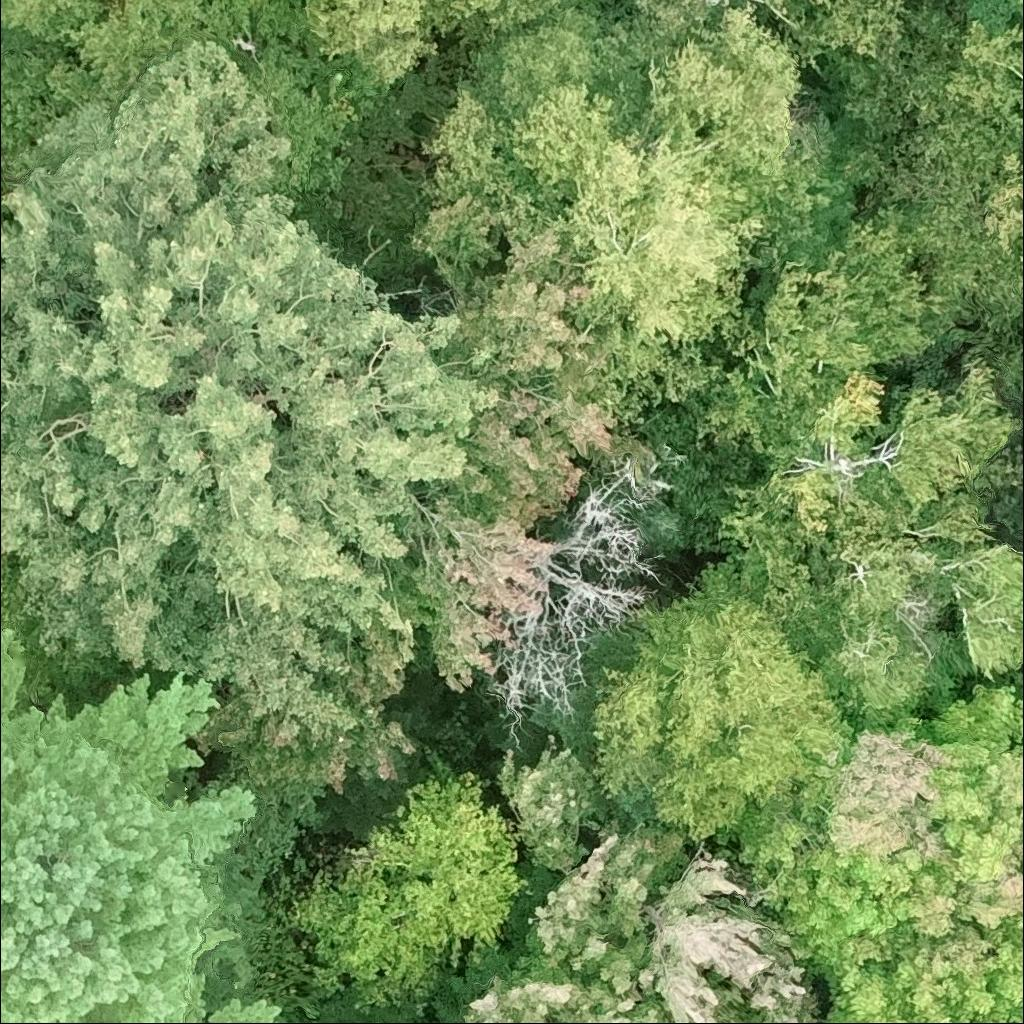crown: (0, 36, 496, 735), (393, 188, 625, 692), (715, 354, 1023, 724), (0, 620, 281, 1023), (737, 683, 1023, 1023), (456, 815, 824, 1023), (591, 557, 848, 848), (288, 747, 531, 1021), (472, 453, 679, 752), (194, 620, 417, 796), (0, 555, 106, 707), (819, 1015, 825, 1023), (409, 1021, 419, 1023)
